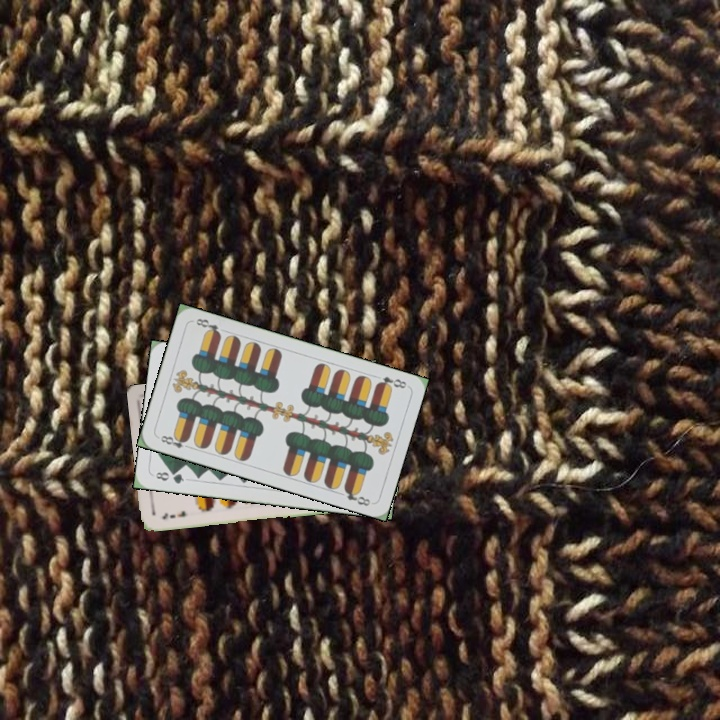E7: (158, 507, 189, 522)
E8: (156, 431, 194, 451), (373, 372, 409, 392)
G8: (151, 467, 187, 486)
